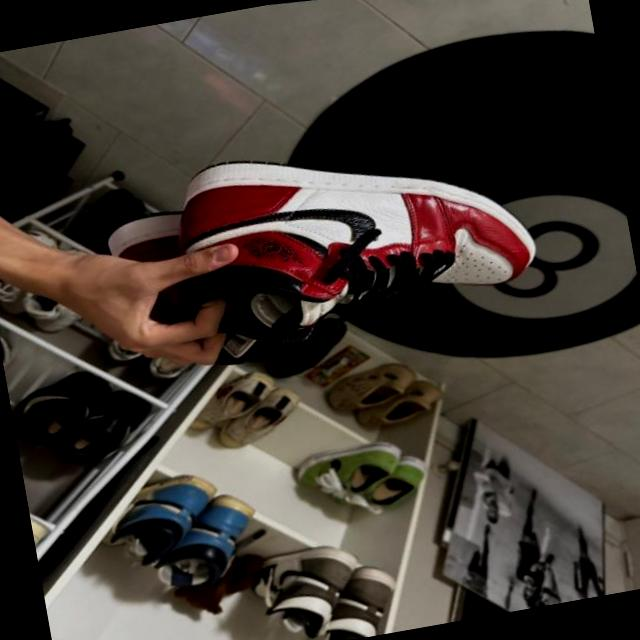nike_original_jordan: (146, 102, 561, 382)
